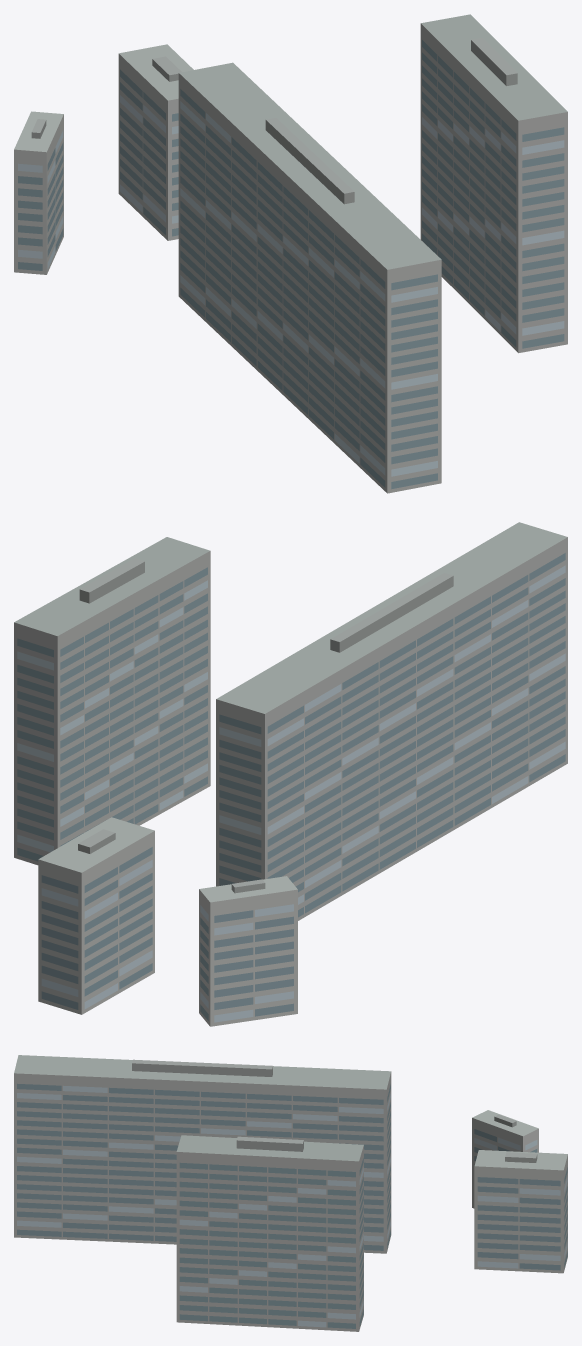
Rendered from apt-a13986701.glb.
3 renders of one model, top to bottom at view 1: azimuth 30°, elevation 25°; view 2: azimuth 150°, elevation 25°; view 3: azimuth 270°, elevation 25°, orthographic. The views are drawn at different scales.
Parts seen in each view (by area): view 1: apt-a13986701; view 2: apt-a13986701; view 3: apt-a13986701.
Boxes of the visible parts, bbox=[...] form: apt-a13986701: bbox=[14, 14, 567, 493]; apt-a13986701: bbox=[14, 522, 567, 1026]; apt-a13986701: bbox=[14, 1055, 567, 1331].
Bounding box in the file's own units: 83.95 × 53 × 149.
